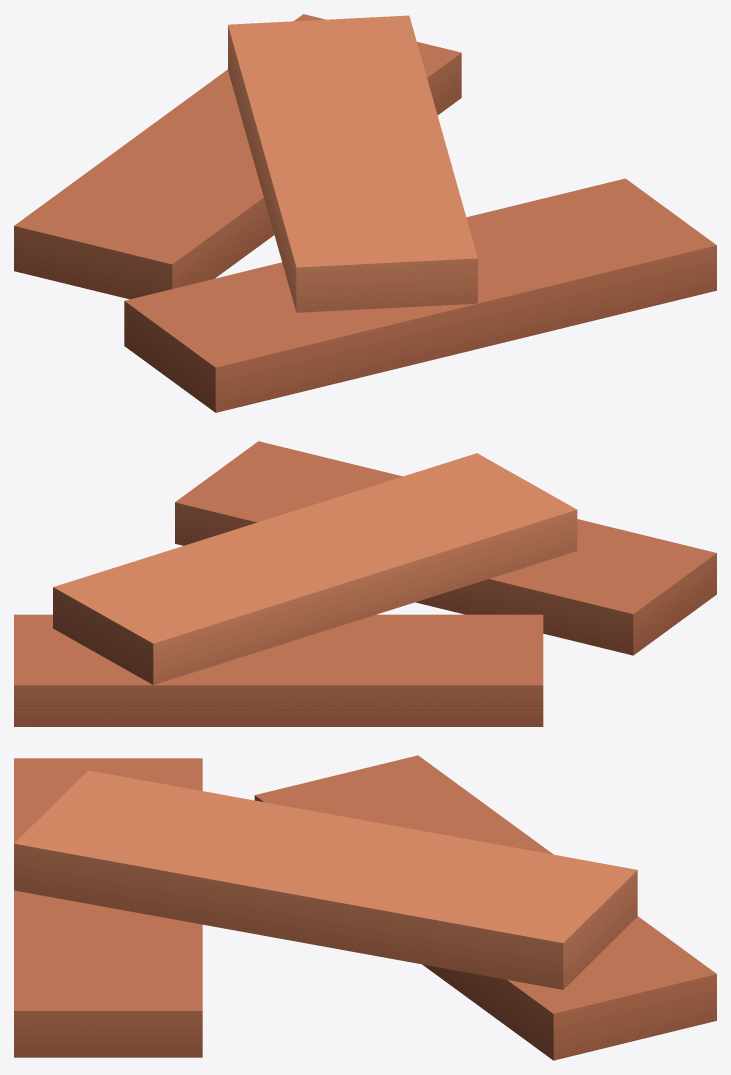
The model's file is debris-wood.glb.
3 views of the same model, one above another, from view 1: azimuth 30°, elevation 25°; view 2: azimuth 150°, elevation 25°; view 3: azimuth 270°, elevation 25° (orthographic). The views are drawn at different scales.
Visible parts, largest first — view 1: debris-wood; view 2: debris-wood; view 3: debris-wood.
Part boxes in pixels (x1=…): debris-wood: x1=14, y1=14, x2=716, y2=412; debris-wood: x1=14, y1=441, x2=716, y2=726; debris-wood: x1=14, y1=755, x2=716, y2=1060.
Bounding box in the file's own units: 0.4669 × 0.0787 × 0.5364.
1 material, 1 textured.
